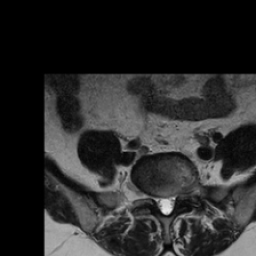CCS_normal: (161, 190, 169, 221)
LFS_stenosis: (177, 183, 187, 204)
LLS_normal: (169, 190, 177, 215)
RFS_severe_stenosis: (147, 184, 155, 204)
RLS_normal: (155, 190, 161, 215)
